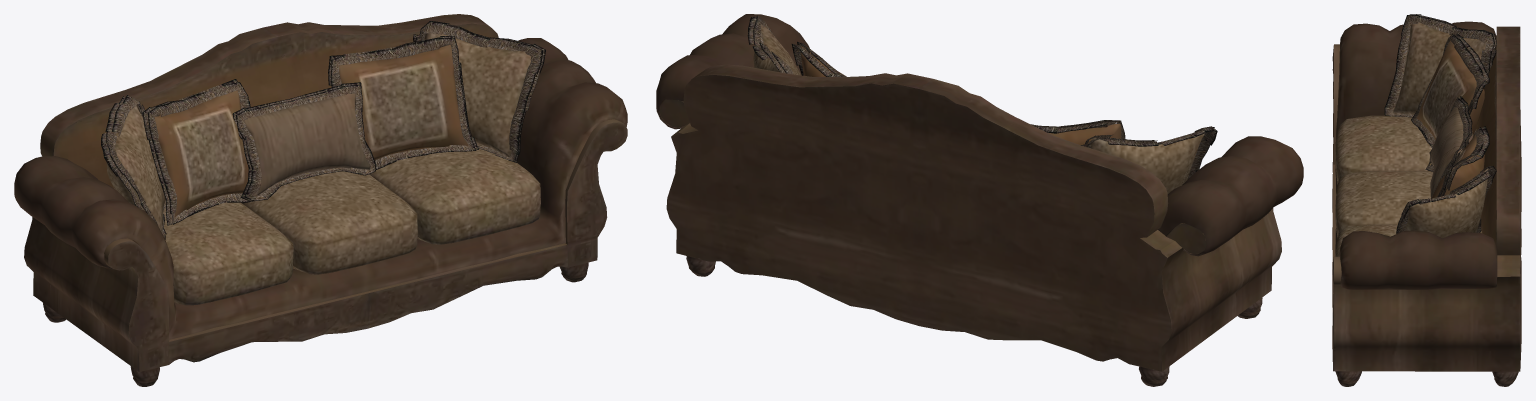
The model's file is sofa_03.glb.
3 renders of one model, left to right at view 1: azimuth 30°, elevation 25°; view 2: azimuth 150°, elevation 25°; view 3: azimuth 270°, elevation 25°, orthographic. The views are drawn at different scales.
Parts seen in each view (by area): view 1: sofa_03; view 2: sofa_03; view 3: sofa_03.
Part boxes in pixels (<box>): sofa_03: <box>14,14,627,386</box>; sofa_03: <box>656,14,1303,386</box>; sofa_03: <box>1332,14,1521,386</box>.
Bounding box in the file's own units: 2.73 × 1.12 × 0.925.
2 materials, 2 textured.
